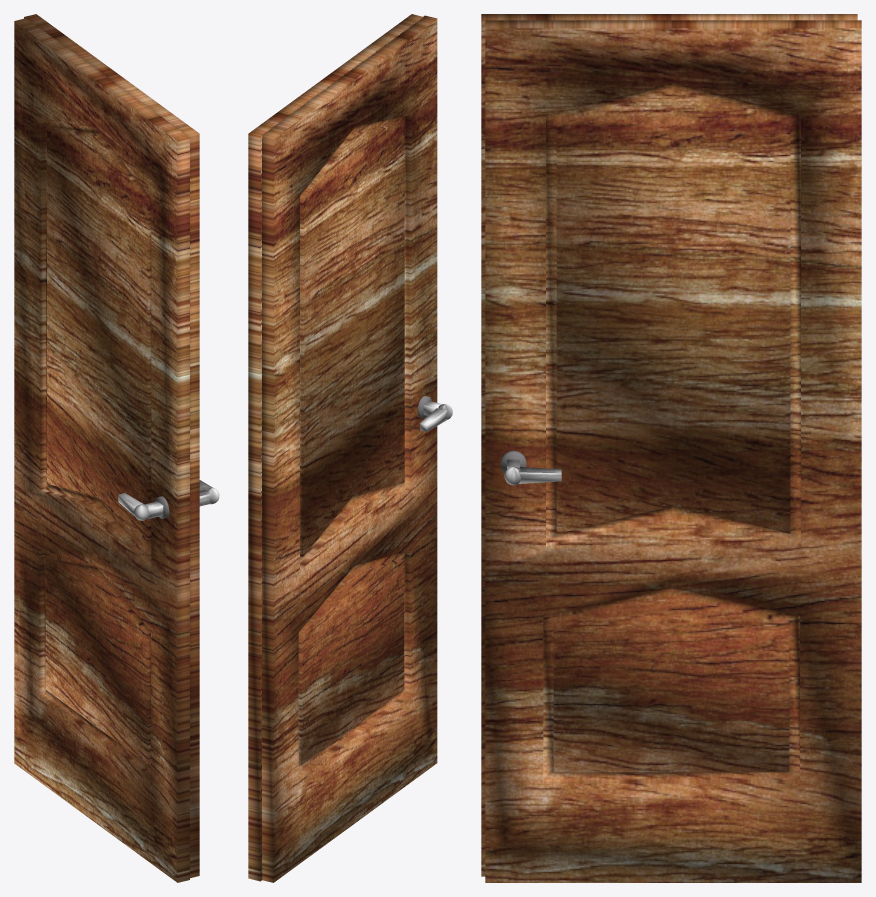
The model's file is Bedroom_door.glb.
3 renders of one model, left to right at view 1: azimuth 30°, elevation 25°; view 2: azimuth 150°, elevation 25°; view 3: azimuth 270°, elevation 25°, orthographic. The views are drawn at different scales.
Visible parts, largest first — view 1: Plane.004; view 2: Plane.004; view 3: Plane.004.
Boxes of the visible parts, x1=… form: Plane.004: x1=14, y1=14, x2=199, y2=882; Plane.004: x1=248, y1=14, x2=437, y2=882; Plane.004: x1=481, y1=14, x2=861, y2=882.
Size of the model in its own units: 0.3395 by 2.89 by 1.16.
Materials: 2 (2 with a texture image).
